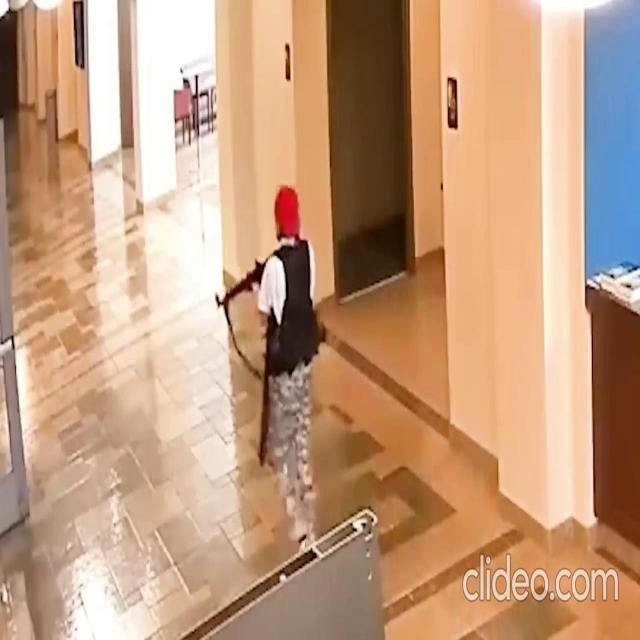pistol: (216, 242, 284, 312), (256, 304, 278, 470)
